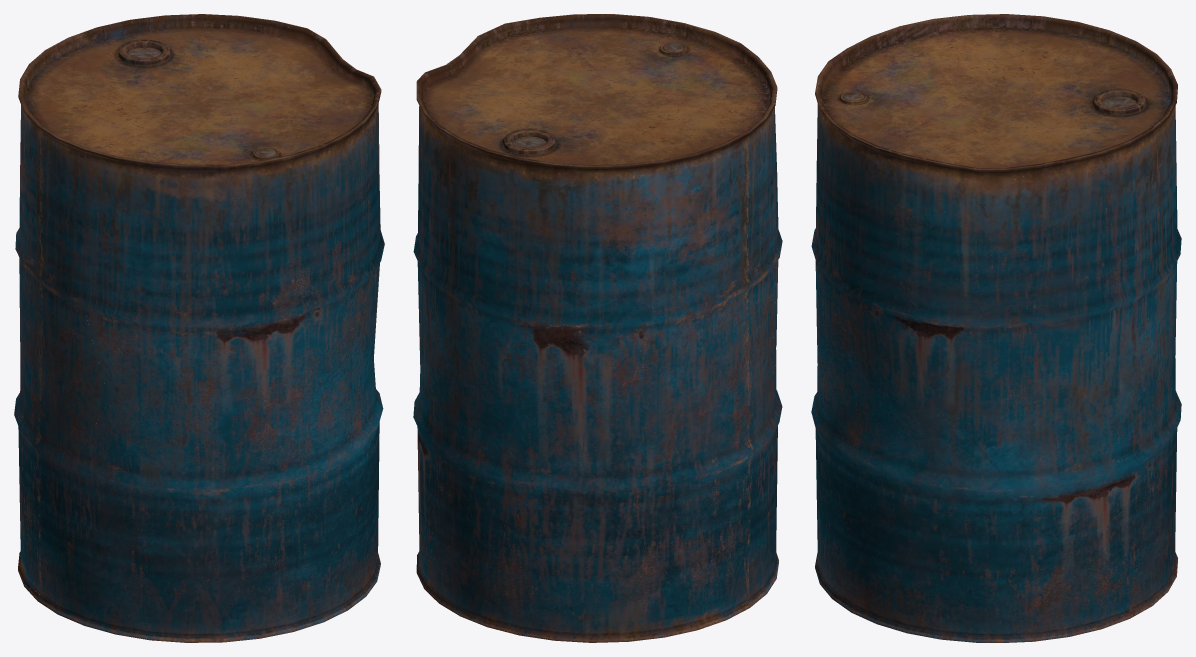
Rendered from barrel.glb.
3 renders of one model, left to right at view 1: azimuth 30°, elevation 25°; view 2: azimuth 150°, elevation 25°; view 3: azimuth 270°, elevation 25°, orthographic.
Visible parts, largest first — view 1: Barrel; view 2: Barrel; view 3: Barrel.
Boxes of the visible parts, <box> form: Barrel: <box>14,14,384,642</box>; Barrel: <box>413,14,782,642</box>; Barrel: <box>811,14,1181,642</box>.
Size of the model in its own units: 1.4 by 2 by 1.4.
Materials: 1 (1 with a texture image).
